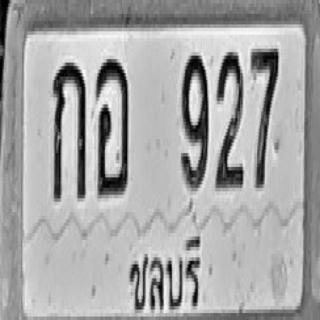A01: (52, 59, 85, 202)
A43: (95, 56, 128, 195)
N02: (214, 49, 243, 188)
N07: (250, 45, 278, 188)
N09: (180, 52, 208, 188)
P13: (124, 229, 206, 315)
